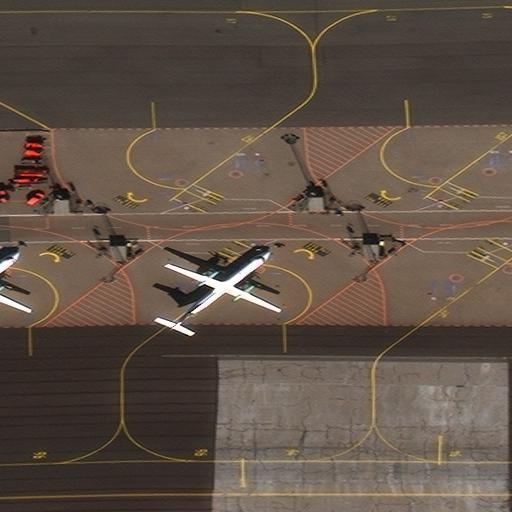Medium Civil Transport: (168, 251, 282, 330), (0, 252, 31, 315)
